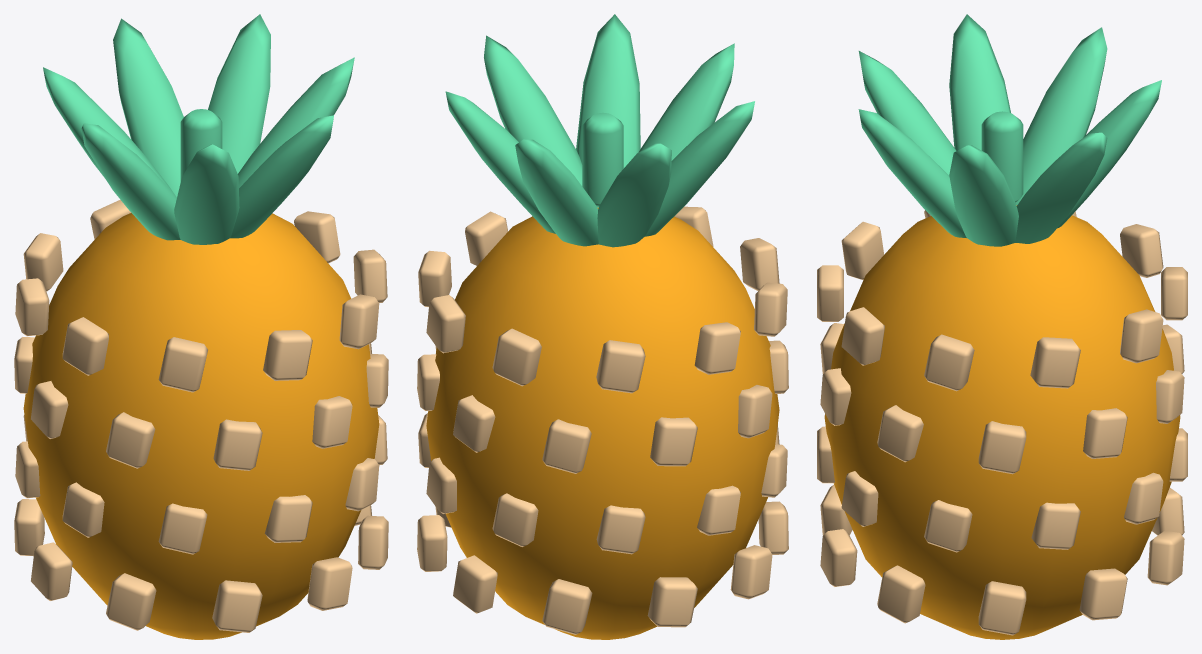
File: pineapple.fbx
3 views of the same model, side by side, from view 1: azimuth 30°, elevation 25°; view 2: azimuth 150°, elevation 25°; view 3: azimuth 270°, elevation 25° (orthographic).
Visible parts, largest first — view 1: pineapple; view 2: pineapple; view 3: pineapple.
Boxes of the visible parts, x1,y1,x2,y2 form: pineapple: [14, 14, 388, 639]; pineapple: [417, 14, 788, 639]; pineapple: [817, 14, 1187, 639].
Bounding box in the file's own units: 61.39 × 100 × 61.39.
Materials: 1 (1 with a texture image).
